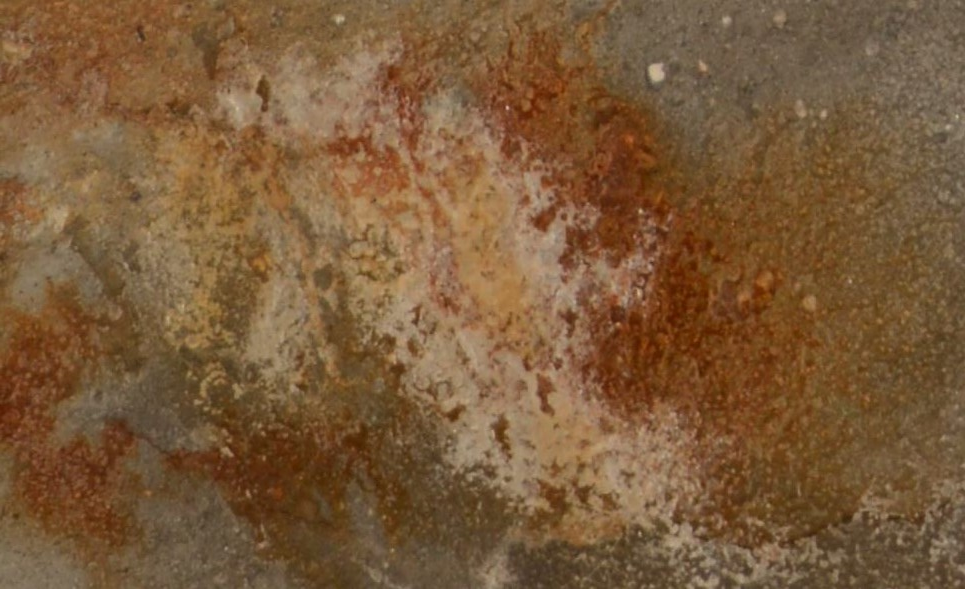Corrosion: (1, 1, 965, 589)
